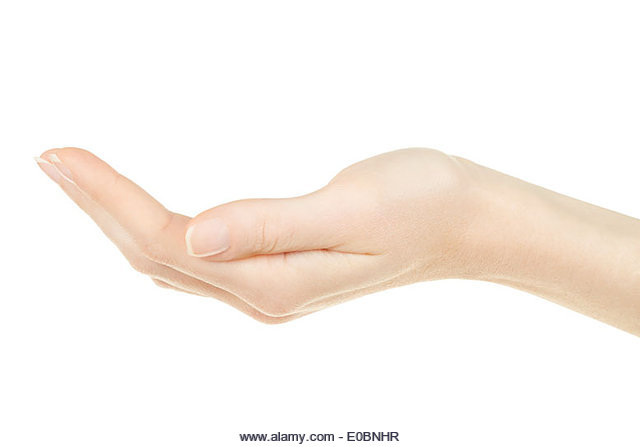non-diseased: (23, 126, 481, 297)
